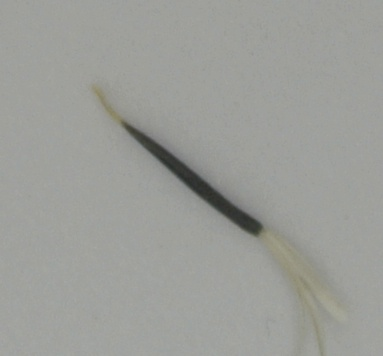เมล็ดดีเรียวยาว: (94, 85, 323, 289)
